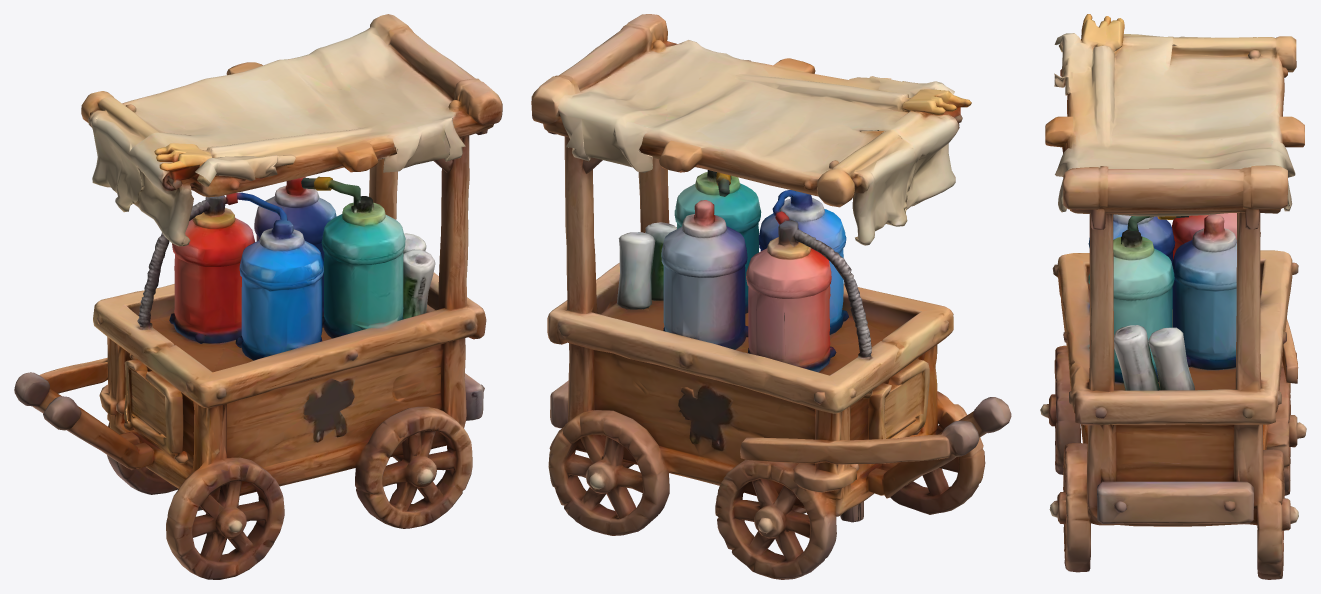
The model's file is wagon.glb.
3 renders of one model, left to right at view 1: azimuth 30°, elevation 25°; view 2: azimuth 150°, elevation 25°; view 3: azimuth 270°, elevation 25°, orthographic. The views are drawn at different scales.
Parts seen in each view (by area): view 1: tripo_node_044272d1-a31e-4221-b52d-4b48b7dfb7c3; view 2: tripo_node_044272d1-a31e-4221-b52d-4b48b7dfb7c3; view 3: tripo_node_044272d1-a31e-4221-b52d-4b48b7dfb7c3.
Part boxes in pixels (<box>): tripo_node_044272d1-a31e-4221-b52d-4b48b7dfb7c3: <box>14,14,502,579</box>; tripo_node_044272d1-a31e-4221-b52d-4b48b7dfb7c3: <box>531,14,1011,579</box>; tripo_node_044272d1-a31e-4221-b52d-4b48b7dfb7c3: <box>1040,14,1306,579</box>.
Size of the model in its own units: 0.9803 by 0.9531 by 0.5317.
1 material, 1 textured.
